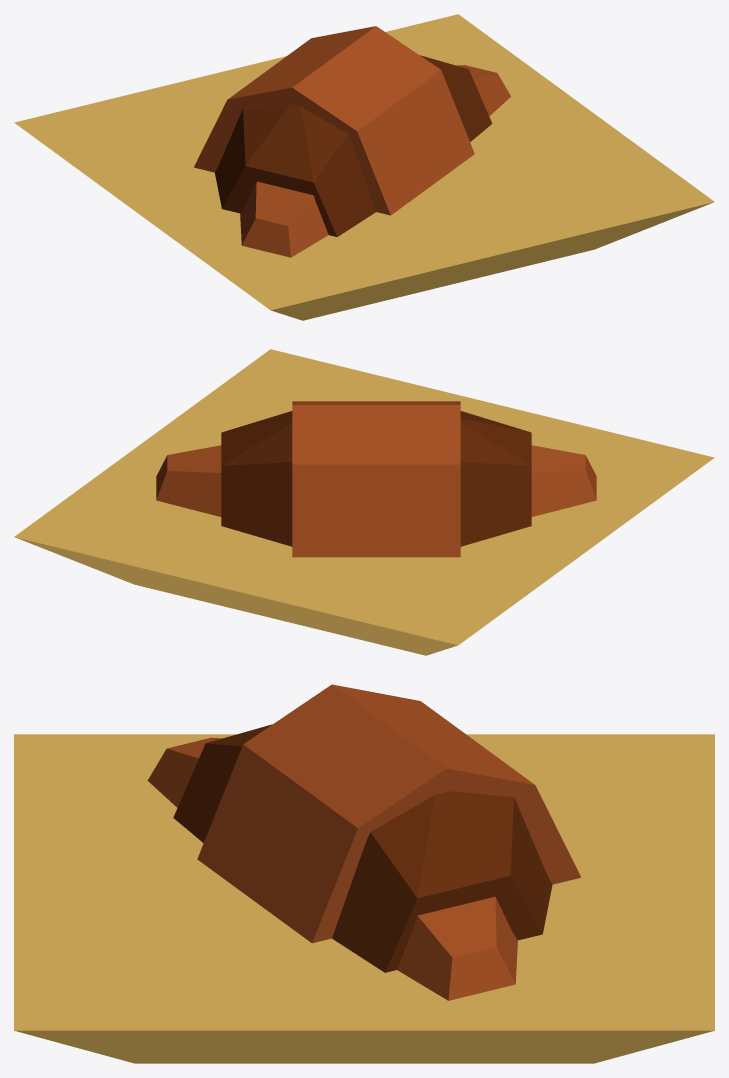
File: Food 01 Croissant.fbx
3 views of the same model, one above another, from view 1: azimuth 30°, elevation 25°; view 2: azimuth 150°, elevation 25°; view 3: azimuth 270°, elevation 25° (orthographic). The views are drawn at different scales.
Visible parts, largest first — view 1: Food_01_Croissant; view 2: Food_01_Croissant; view 3: Food_01_Croissant.
Part boxes in pixels (x1,y1,x2,y2): Food_01_Croissant: [14, 14, 714, 320]; Food_01_Croissant: [14, 349, 714, 655]; Food_01_Croissant: [14, 684, 714, 1063].
Bounding box in the file's own units: 32.96 × 11.72 × 32.96.
